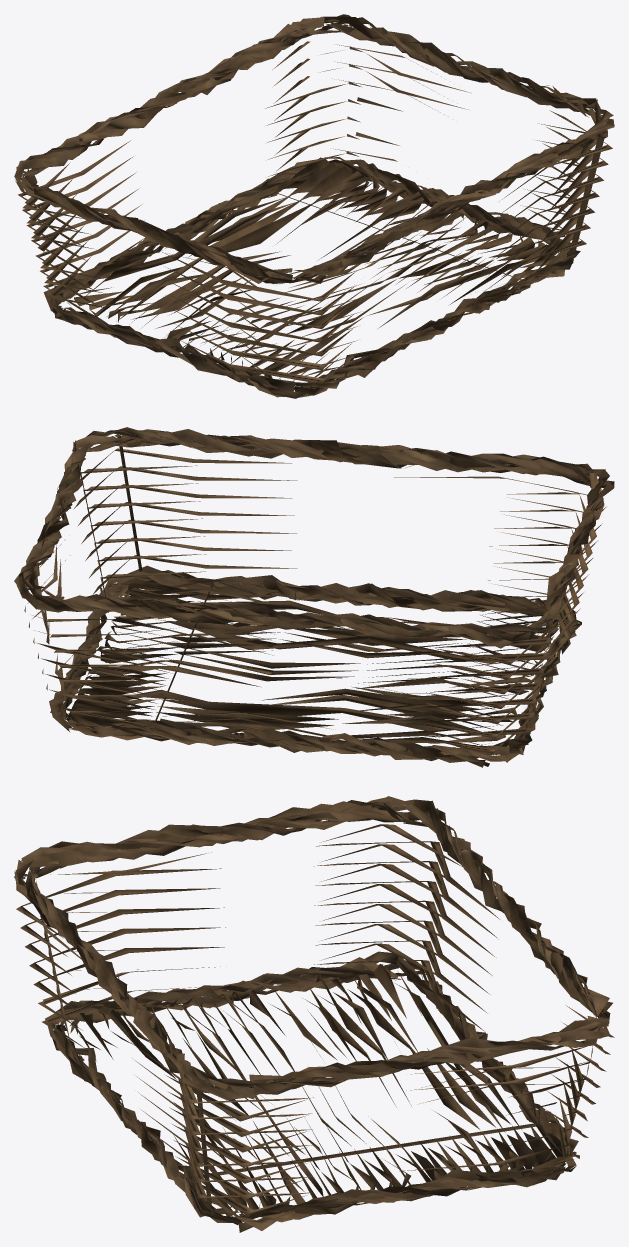
File: wicker_basket.glb
3 views of the same model, one above another, from view 1: azimuth 30°, elevation 25°; view 2: azimuth 150°, elevation 25°; view 3: azimuth 270°, elevation 25° (orthographic). The views are drawn at different scales.
Parts seen in each view (by area): view 1: wicker_basket; view 2: wicker_basket; view 3: wicker_basket.
Boxes of the visible parts, box(x1,y1,x2,y2) form: wicker_basket: box(14, 14, 614, 398); wicker_basket: box(14, 427, 614, 767); wicker_basket: box(14, 796, 614, 1232).
Bounding box in the file's own units: 1.78 × 0.4965 × 1.56.
1 material, 1 textured.
